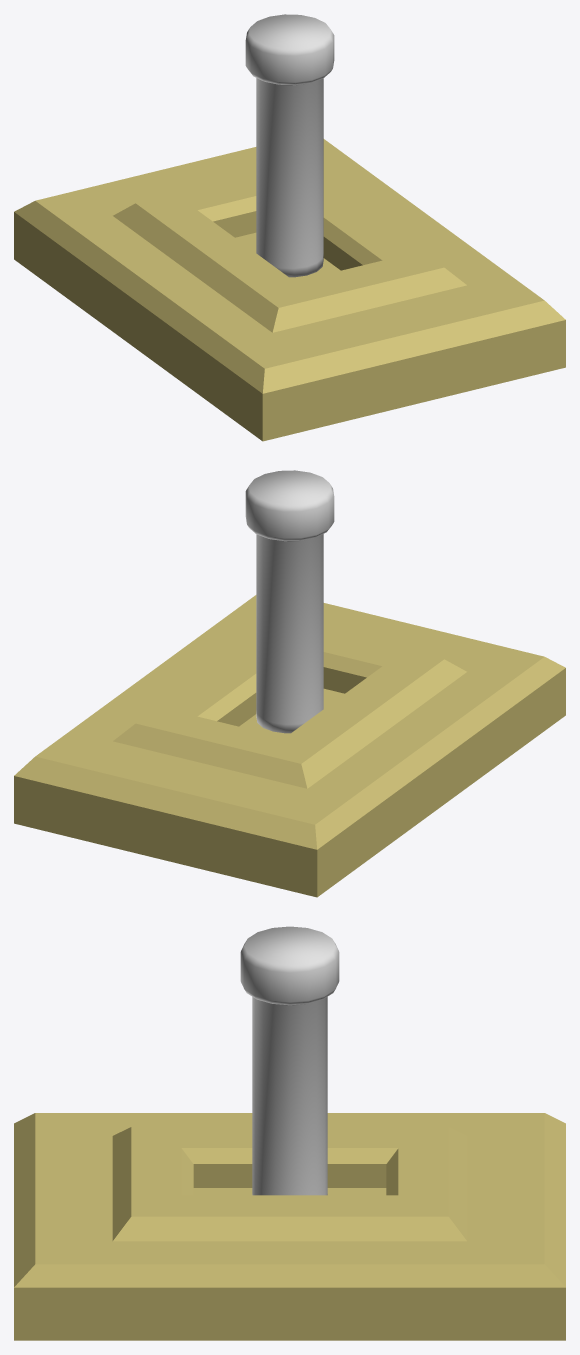
The model's file is Switch.gltf.
3 views of the same model, one above another, from view 1: azimuth 30°, elevation 25°; view 2: azimuth 150°, elevation 25°; view 3: azimuth 270°, elevation 25° (orthographic). The views are drawn at different scales.
Visible parts, largest first — view 1: Casing, Switch; view 2: Casing, Switch; view 3: Casing, Switch.
Part boxes in pixels (left/top/right/bottom): Casing: left=14, top=139, right=565, bottom=441; Switch: left=245, top=14, right=334, bottom=277; Casing: left=14, top=595, right=565, bottom=897; Switch: left=245, top=470, right=334, bottom=733; Casing: left=14, top=1113, right=565, bottom=1340; Switch: left=240, top=926, right=339, bottom=1195.
Bounding box in the file's own units: 1.2 × 1.07 × 1.71.
